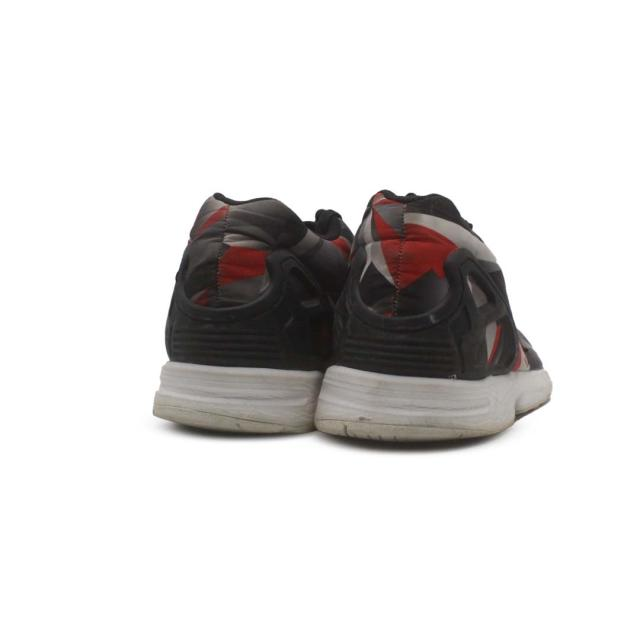heel: (330, 192, 497, 376), (166, 193, 337, 368)
midsole: (314, 366, 506, 435), (157, 364, 326, 430)
